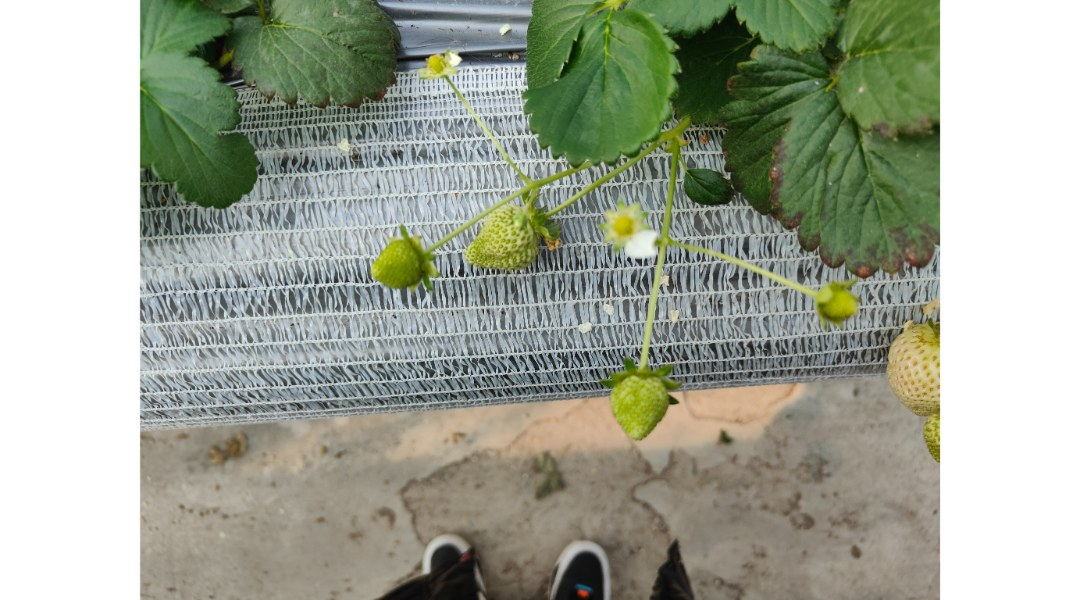berry: (595, 359, 693, 444), (876, 293, 944, 412), (465, 195, 544, 277), (363, 227, 435, 297), (908, 383, 955, 460), (812, 274, 857, 328)
strain: (670, 237, 836, 297), (640, 153, 682, 388), (446, 93, 525, 176), (554, 168, 622, 215)
